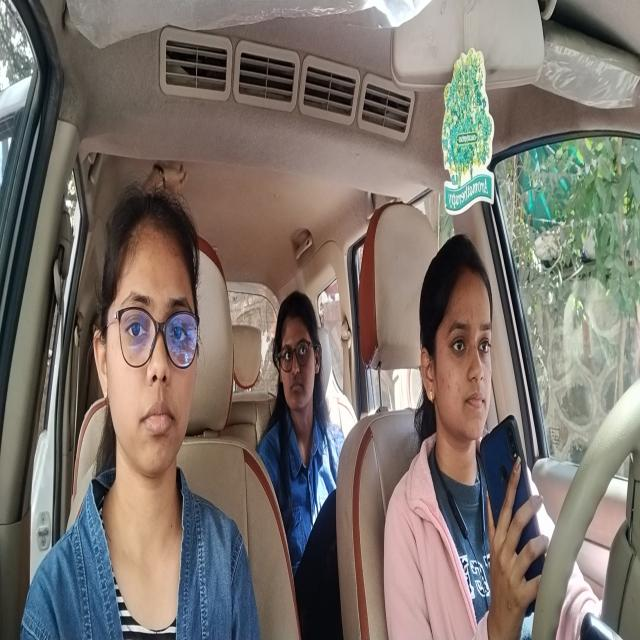mobile: (477, 426, 547, 579)
person: (109, 215, 196, 468), (417, 240, 492, 441), (275, 277, 322, 408)
